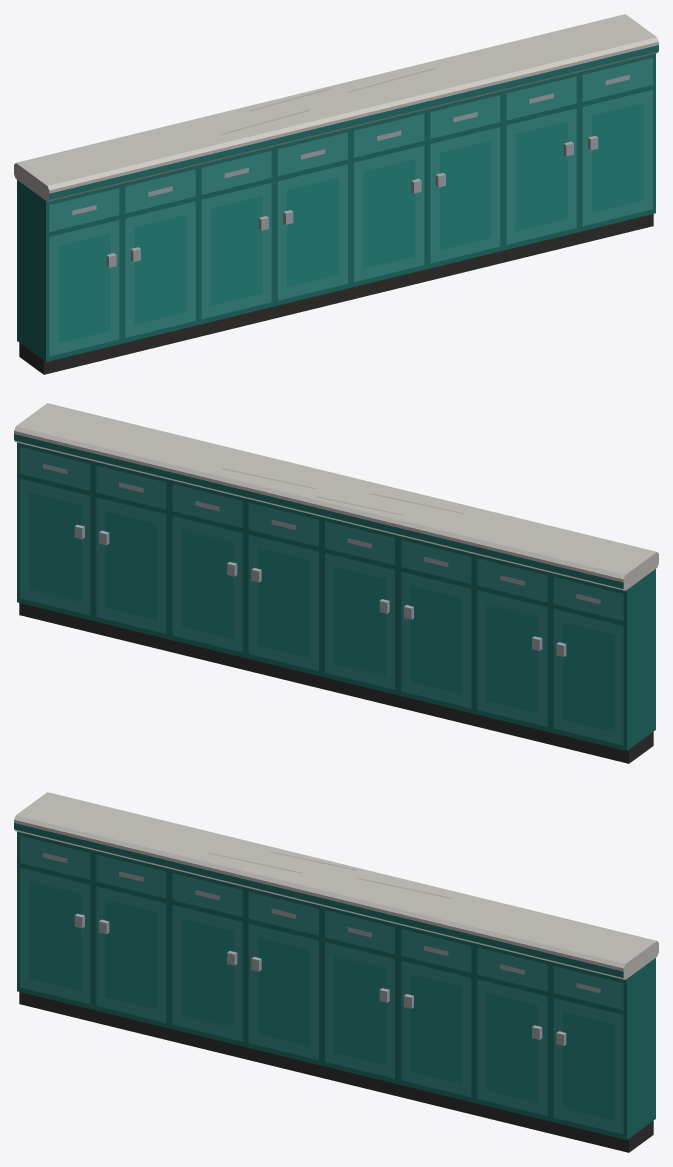
The model's file is kitchen-wall2.glb.
3 renders of one model, top to bottom at view 1: azimuth 30°, elevation 25°; view 2: azimuth 150°, elevation 25°; view 3: azimuth 330°, elevation 25°, orthographic.
Parts seen in each view (by area): view 1: kitchen-wall2; view 2: kitchen-wall2; view 3: kitchen-wall2.
Boxes of the visible parts, bbox=[...] form: kitchen-wall2: bbox=[14, 14, 658, 374]; kitchen-wall2: bbox=[14, 403, 658, 763]; kitchen-wall2: bbox=[14, 792, 658, 1152].
Size of the model in its own units: 4 by 1.2 by 0.401.
